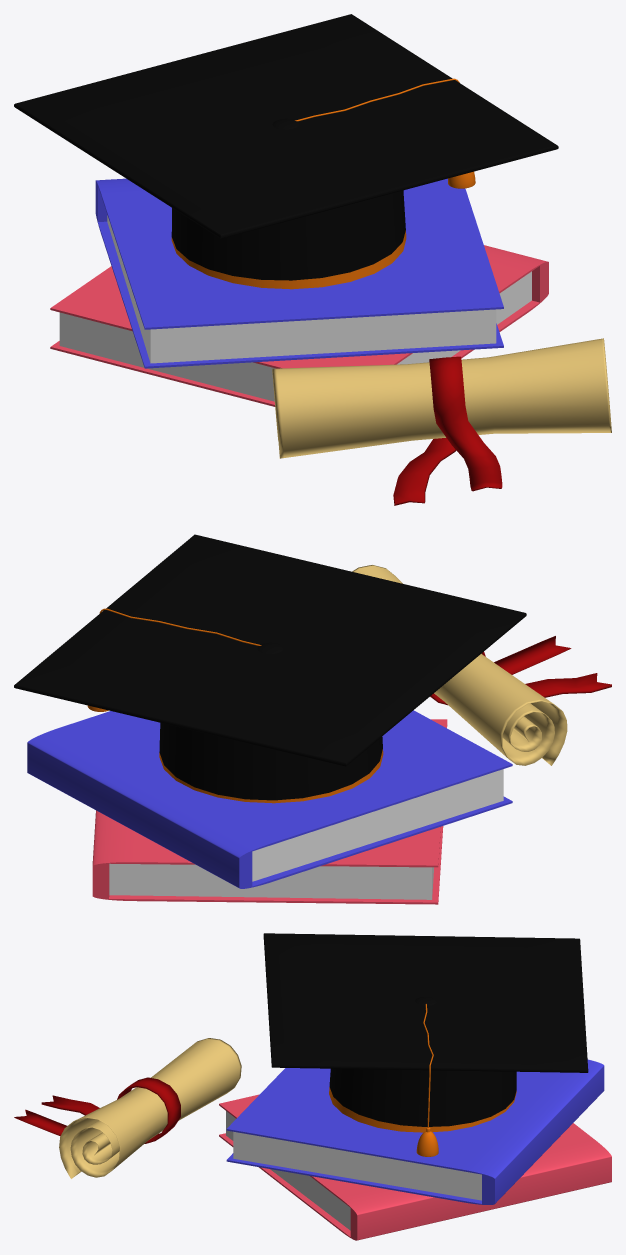
File: graduation_animation_correction.glb
3 views of the same model, one above another, from view 1: azimuth 30°, elevation 25°; view 2: azimuth 150°, elevation 25°; view 3: azimuth 270°, elevation 25° (orthographic). The views are drawn at different scales.
Visible parts, largest first — view 1: Cube_2, Cube.001, Object_7, Cube, Object_6; view 2: Cube_2, Cube.001, Cube, Object_7, Object_6; view 3: Cube_2, Cube.001, Cube, Object_7, Object_6, Sphere.001_5.
Boxes of the visible parts, x1,y1,x2,y2 form: Cube_2: [14, 14, 558, 289]; Cube.001: [95, 178, 503, 368]; Object_7: [272, 338, 611, 458]; Cube: [50, 245, 548, 406]; Object_6: [393, 356, 502, 505]; Cube_2: [14, 534, 526, 803]; Cube.001: [27, 710, 512, 888]; Cube: [92, 719, 447, 904]; Object_7: [352, 565, 567, 765]; Object_6: [430, 636, 611, 705]; Cube_2: [263, 933, 588, 1132]; Cube.001: [226, 1059, 604, 1204]; Cube: [219, 1094, 611, 1240]; Object_7: [59, 1038, 241, 1178]; Object_6: [14, 1077, 180, 1143]; Sphere.001_5: [416, 1127, 438, 1156].
Bounding box in the file's own units: 1.74 × 0.7931 × 2.65.
